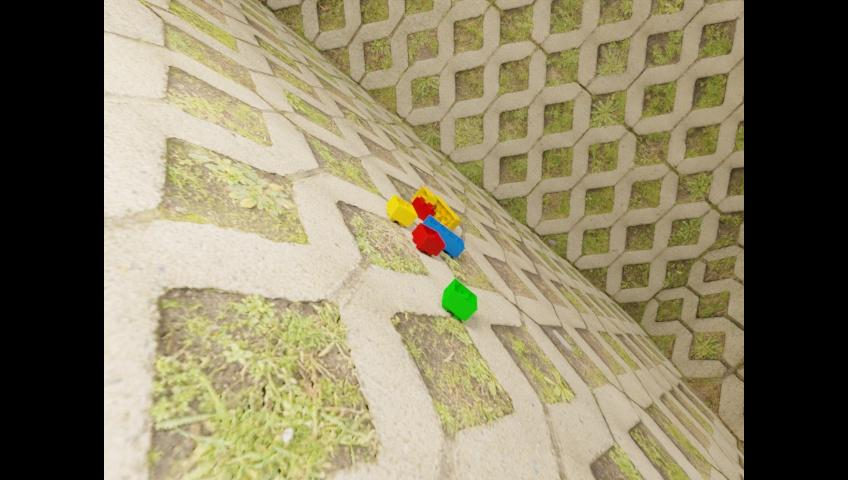2x2_green: (441, 277, 476, 321)
2x2_red: (412, 223, 446, 257), (411, 196, 434, 222)
2x2_yellow: (386, 195, 417, 228), (411, 185, 436, 205)
4x2_blue: (423, 215, 465, 258)
4x2_yellow: (433, 194, 460, 231)
